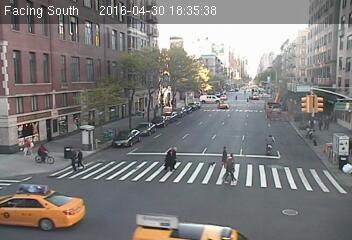neg: (137, 54, 164, 90), (116, 166, 142, 200), (47, 193, 71, 225), (31, 135, 55, 166), (189, 105, 212, 135), (197, 63, 218, 90), (308, 139, 328, 166), (310, 92, 330, 118), (101, 66, 121, 92), (71, 73, 90, 98), (233, 193, 252, 218), (264, 71, 281, 94), (285, 116, 302, 138), (42, 102, 59, 124), (299, 35, 315, 56), (128, 124, 143, 145), (230, 81, 245, 101), (79, 122, 93, 141), (284, 199, 298, 217)
pos: (162, 142, 186, 174), (223, 154, 242, 179), (220, 142, 235, 162), (65, 149, 80, 168), (76, 146, 89, 164)
